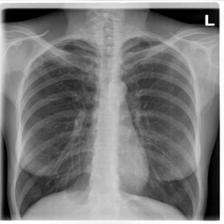tuberculosis: (11, 29, 203, 220)
